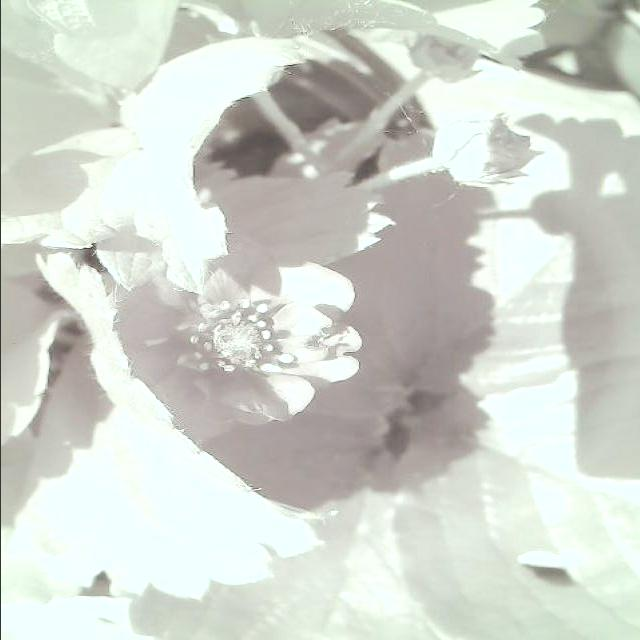flower: (99, 217, 367, 439)
